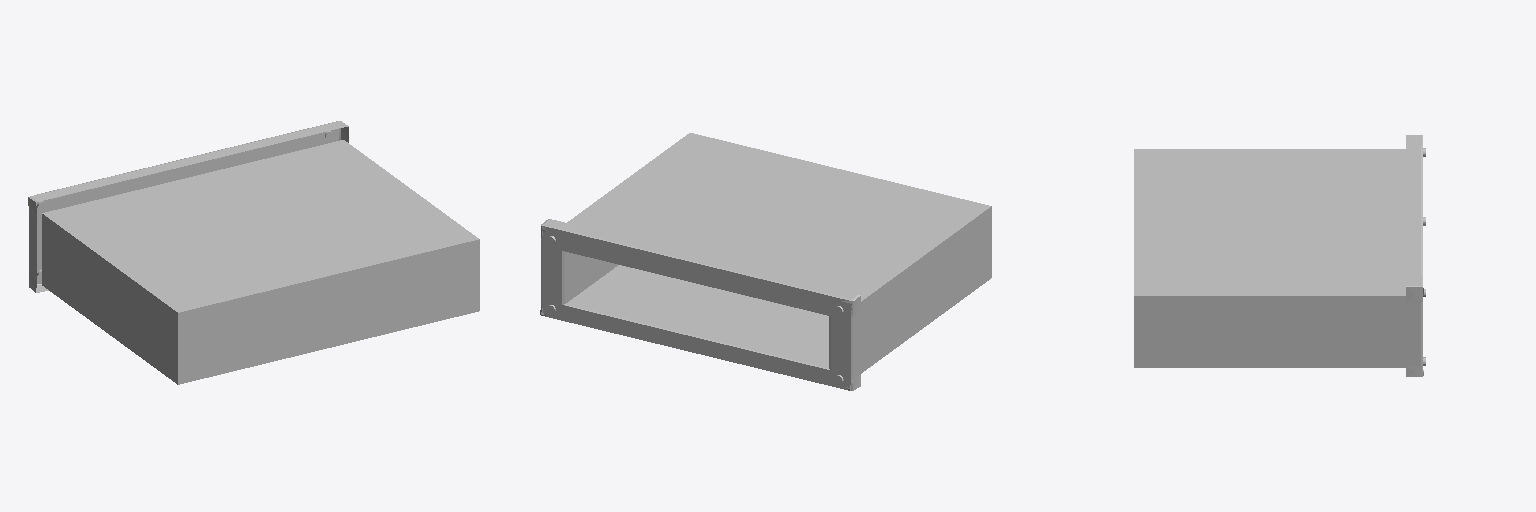
Rendered from MovingPlatform2.Obj.
3 views of the same model, side by side, from view 1: azimuth 30°, elevation 25°; view 2: azimuth 150°, elevation 25°; view 3: azimuth 270°, elevation 25° (orthographic).
Visible parts, largest first — view 1: ZBrush_defualt_group; view 2: ZBrush_defualt_group; view 3: ZBrush_defualt_group.
Part boxes in pixels (left/top/right/bottom): ZBrush_defualt_group: left=28, top=121, right=479, bottom=384; ZBrush_defualt_group: left=540, top=133, right=991, bottom=390; ZBrush_defualt_group: left=1134, top=135, right=1425, bottom=376.
Size of the model in its own units: 2.66 by 0.7385 by 2.14.